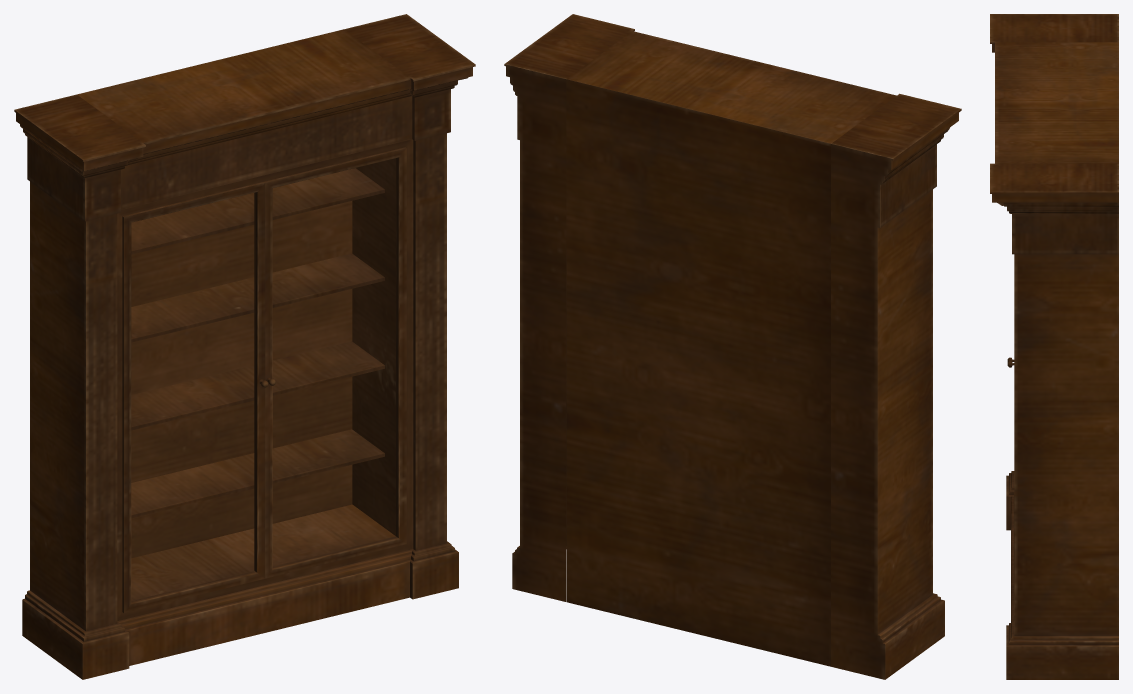
File: victorian-cabinet-81291e.glb
3 views of the same model, side by side, from view 1: azimuth 30°, elevation 25°; view 2: azimuth 150°, elevation 25°; view 3: azimuth 270°, elevation 25° (orthographic). The views are drawn at different scales.
Visible parts, largest first — view 1: PropMesh; view 2: PropMesh; view 3: PropMesh.
Boxes of the visible parts, box(x1,y1,x2,y2) form: PropMesh: box(14, 14, 475, 679); PropMesh: box(504, 14, 961, 679); PropMesh: box(990, 14, 1118, 679).
Size of the model in its own units: 1.6 by 2.06 by 0.4883.
1 material, 1 textured.
